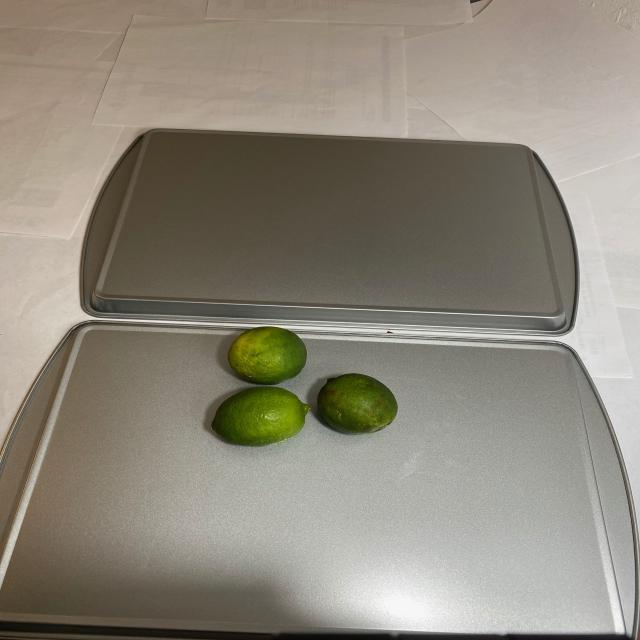lemon: (202, 328, 405, 449)
